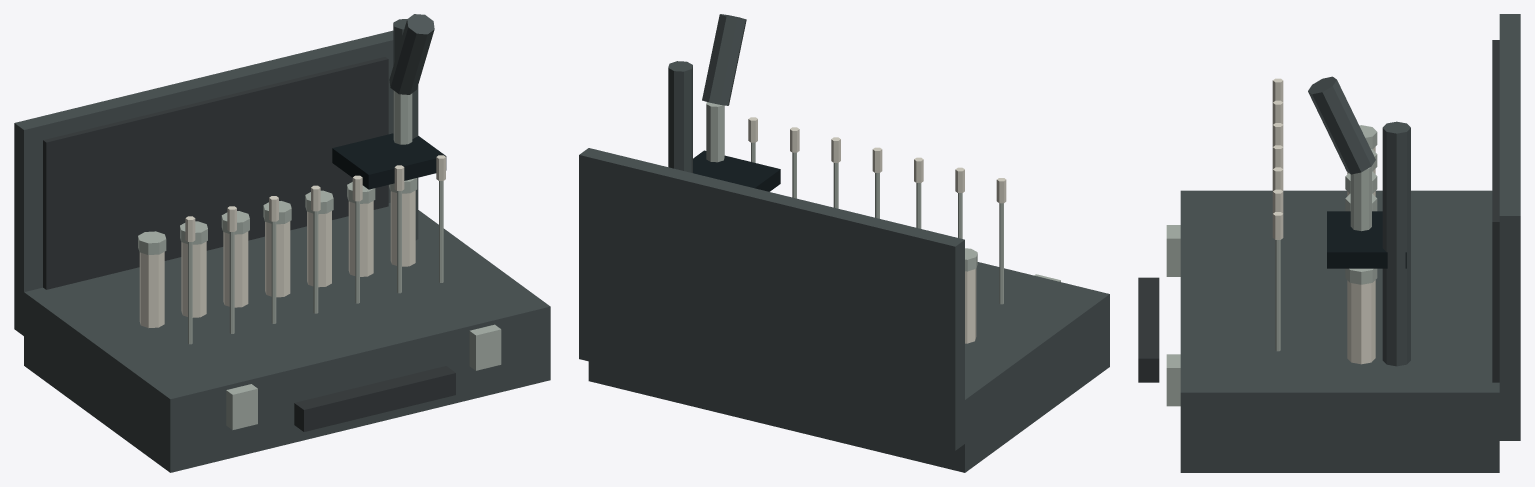
Rendered from blender_ectoplasm_sampler_3_open.glb.
3 views of the same model, side by side, from view 1: azimuth 30°, elevation 25°; view 2: azimuth 150°, elevation 25°; view 3: azimuth 270°, elevation 25° (orthographic). The views are drawn at different scales.
Visible parts, largest first — view 1: blender_ectoplasm_sampler_3_open; view 2: blender_ectoplasm_sampler_3_open; view 3: blender_ectoplasm_sampler_3_open.
Boxes of the visible parts, x1,y1,x2,y2 form: blender_ectoplasm_sampler_3_open: [14, 14, 550, 472]; blender_ectoplasm_sampler_3_open: [579, 14, 1109, 472]; blender_ectoplasm_sampler_3_open: [1138, 14, 1520, 472].
Bounding box in the file's own units: 0.27 × 0.2236 × 0.216.
Materials: 1 (1 with a texture image).
